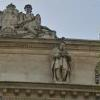Statue: (3, 2, 61, 46)
